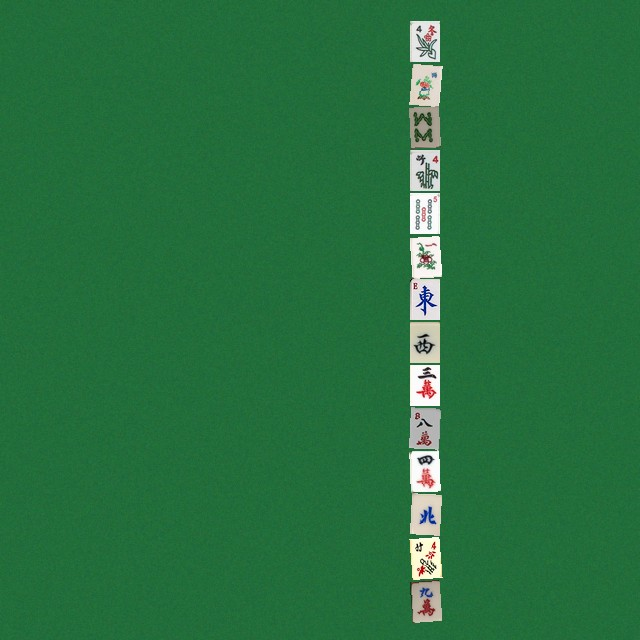tile: (409, 20, 439, 61), (409, 63, 439, 104), (409, 106, 439, 147), (409, 149, 439, 190), (409, 192, 439, 233), (409, 235, 439, 276), (409, 278, 439, 319), (409, 321, 439, 362), (409, 364, 439, 405), (409, 407, 439, 448), (409, 450, 439, 491), (409, 493, 439, 534), (409, 536, 439, 577), (409, 579, 439, 620)
